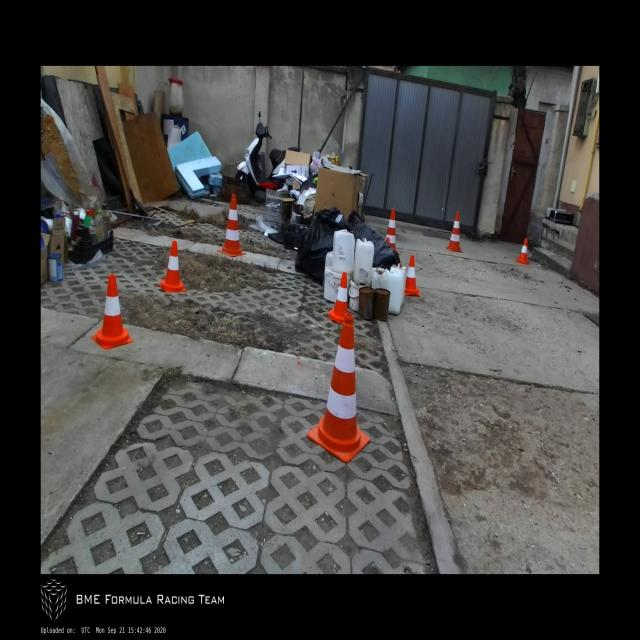large_orange_cone: (307, 313, 370, 463), (217, 194, 247, 257), (445, 211, 463, 253), (386, 209, 400, 255)
orange_cone: (90, 274, 134, 350), (157, 240, 187, 292), (327, 272, 347, 324), (404, 255, 421, 297), (516, 238, 530, 264)
